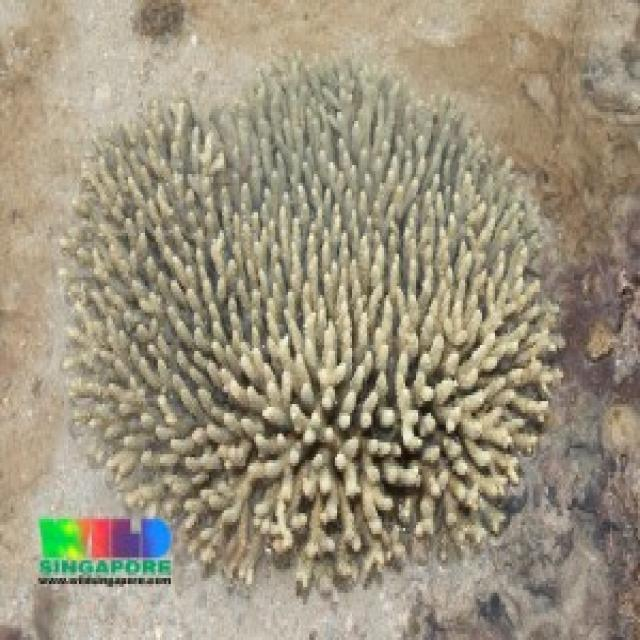Bleached: (71, 58, 557, 568)
